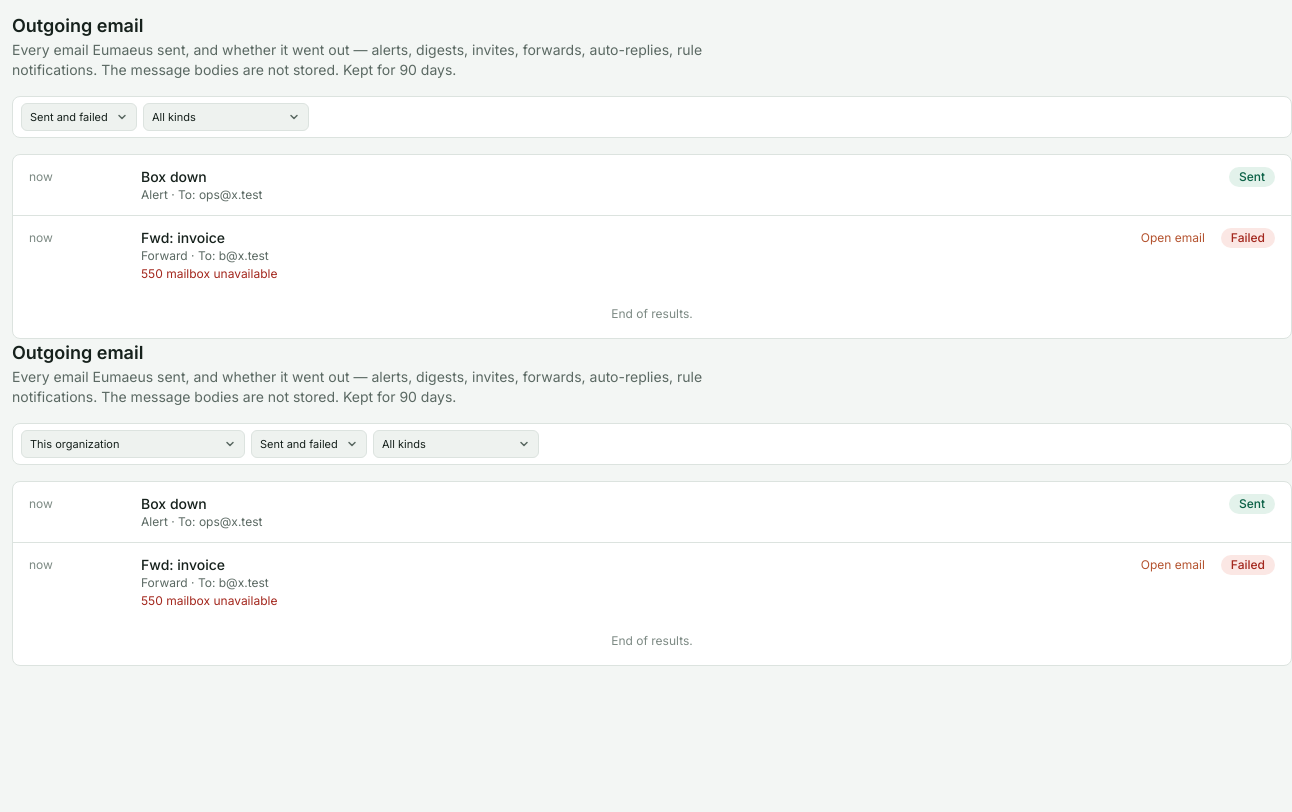
it: Outgoing email page (1.2 F) › only the system administrator can switch to every organization and system emails
Expected: the option "All organizations and system emails" is not shown
Select "All organizations and system emails" in the dropdown named "All organizations and system emails" at (133, 444), box [21,430,245,458]
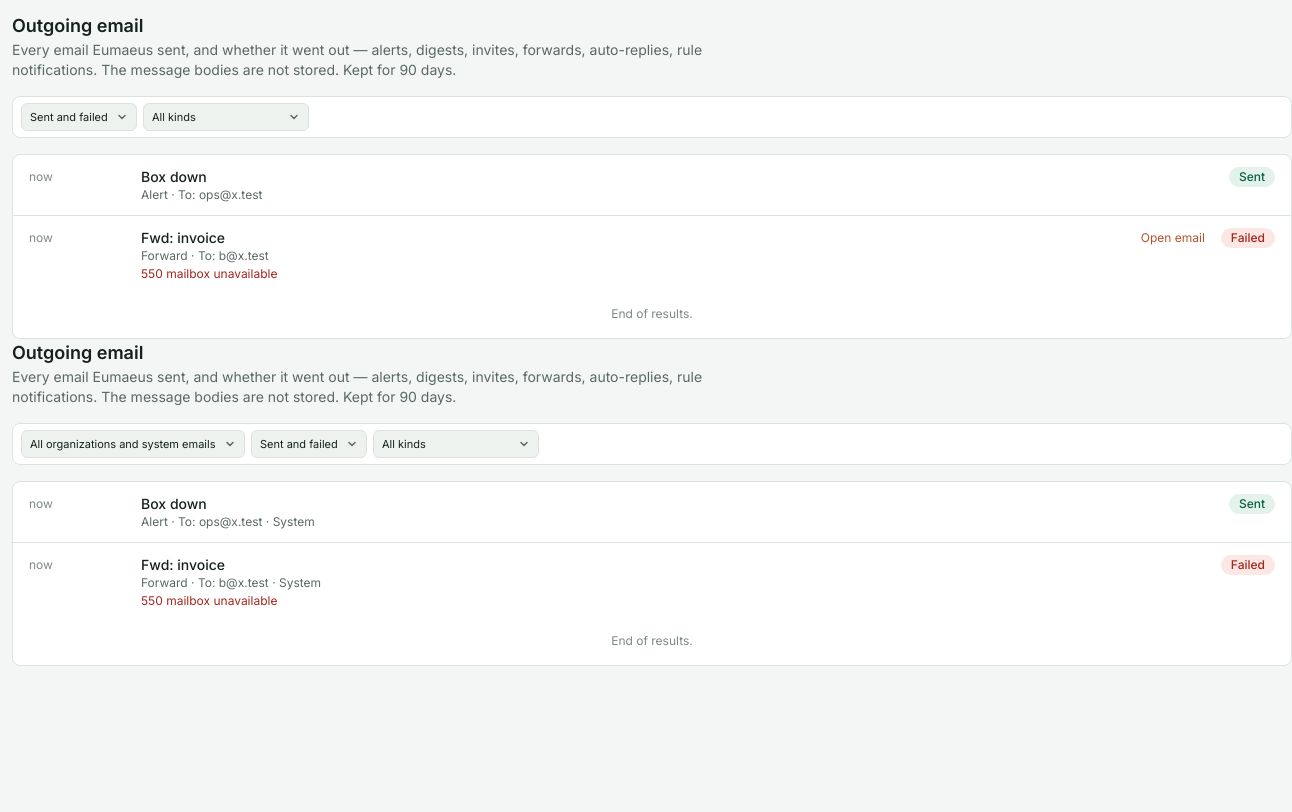
Now the text "Alert · To: ops@x.test · System" is shown, box [141,514,315,529]
